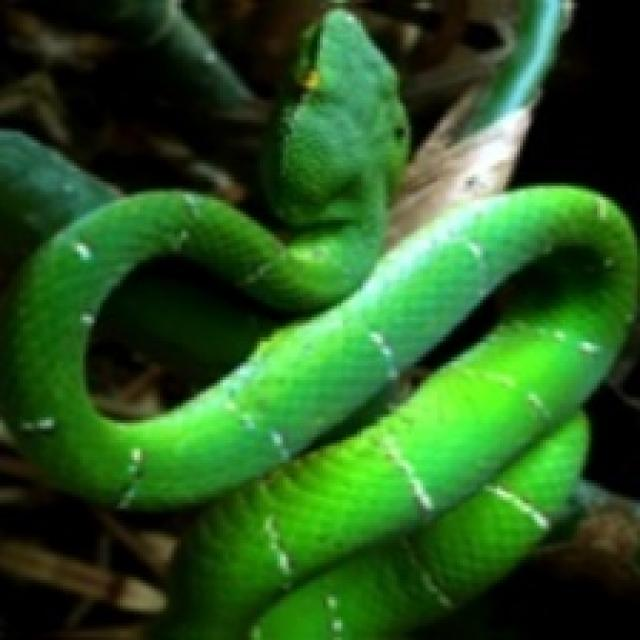north ph temple pitviper: (2, 10, 635, 640)
